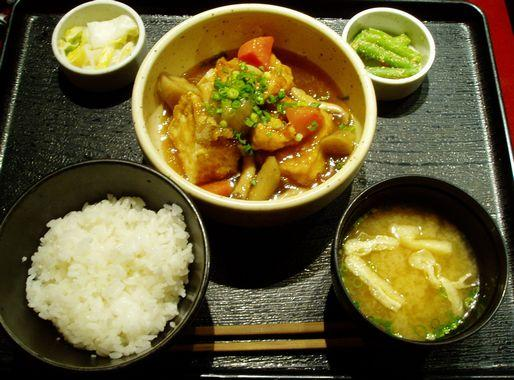rice: (25, 194, 193, 361)
